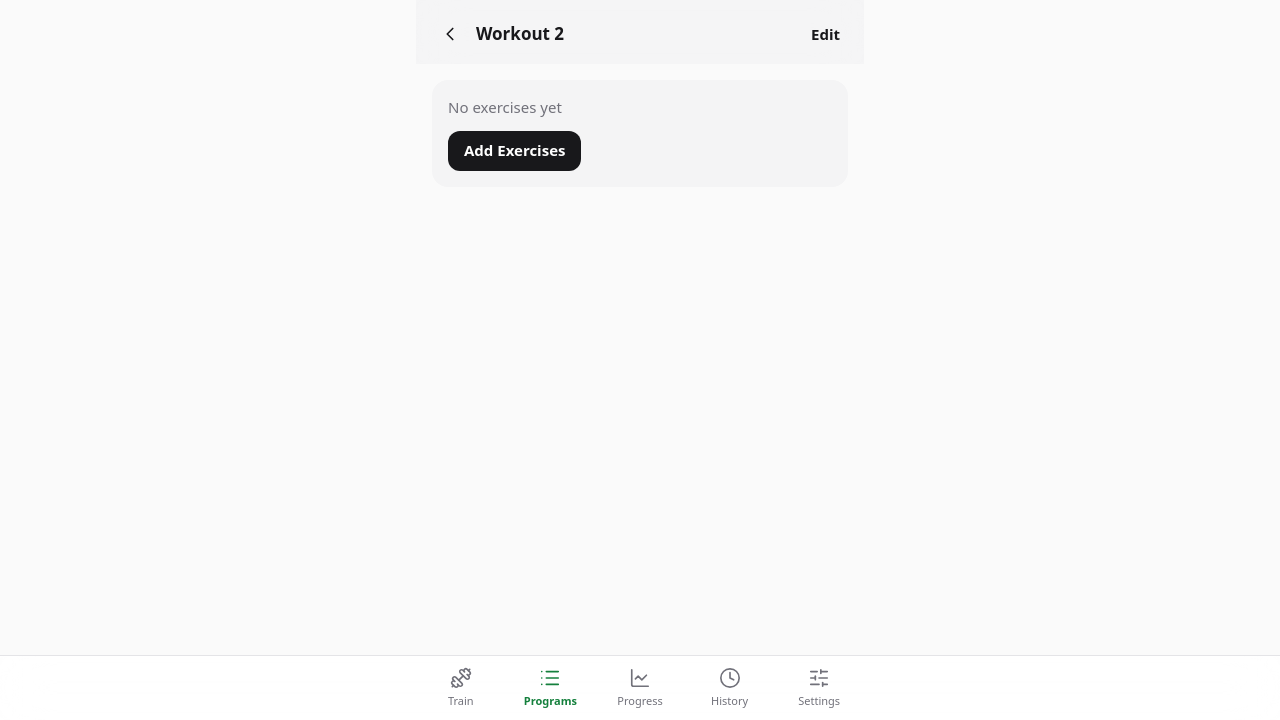
Scenario: Programs › Cancel throws a draft away, asking first when something changed
Click the button "Edit" at (826, 34), box x1=799 y1=12 x2=852 y2=56
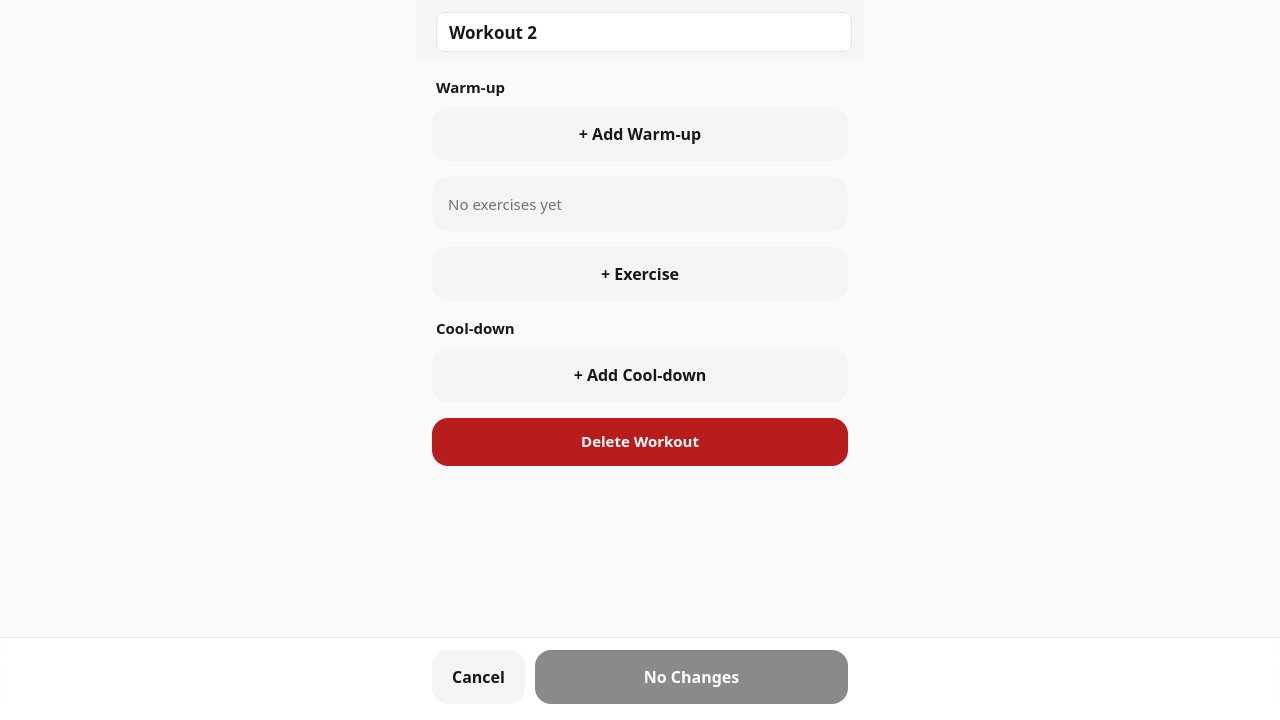
Check: the navigation bar "Main" is gone
Check: the button "No Changes" is disabled, box x1=535 y1=650 x2=848 y2=704
Type "Light" into the field named "Workout name" at (644, 32), box x1=436 y1=12 x2=852 y2=52
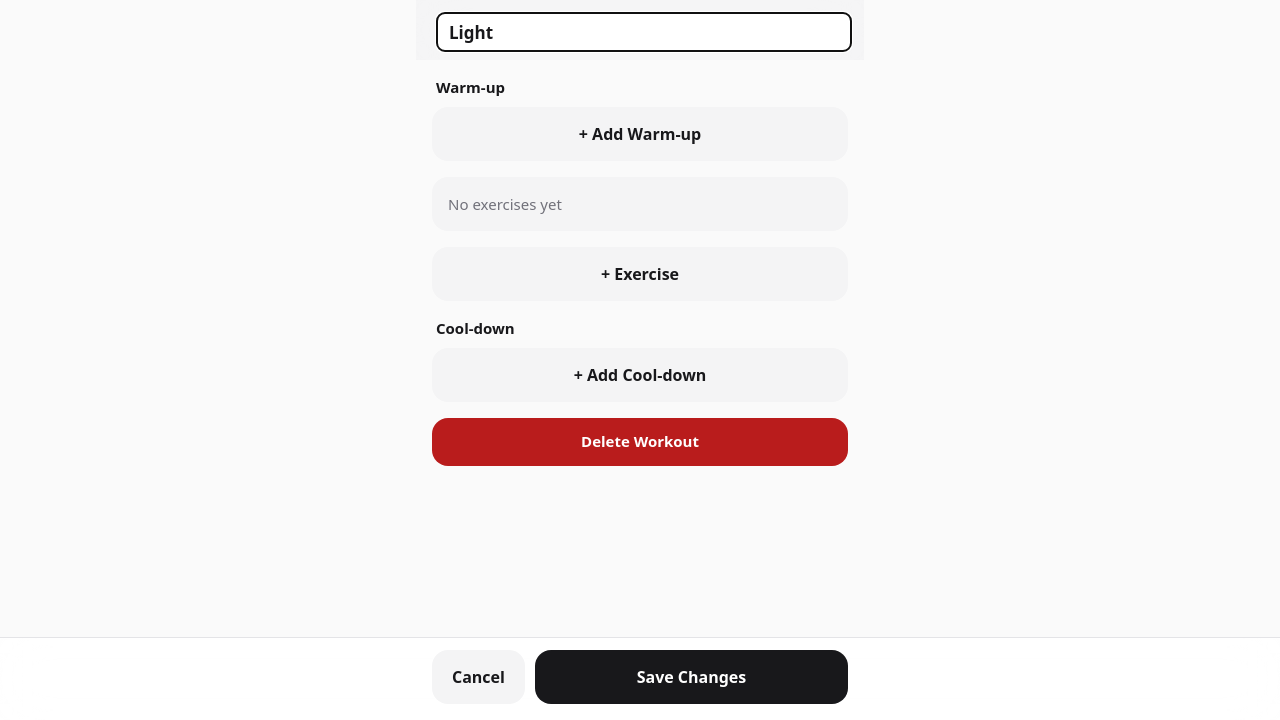
Click the button "Cancel" at (478, 677), box x1=432 y1=650 x2=525 y2=704
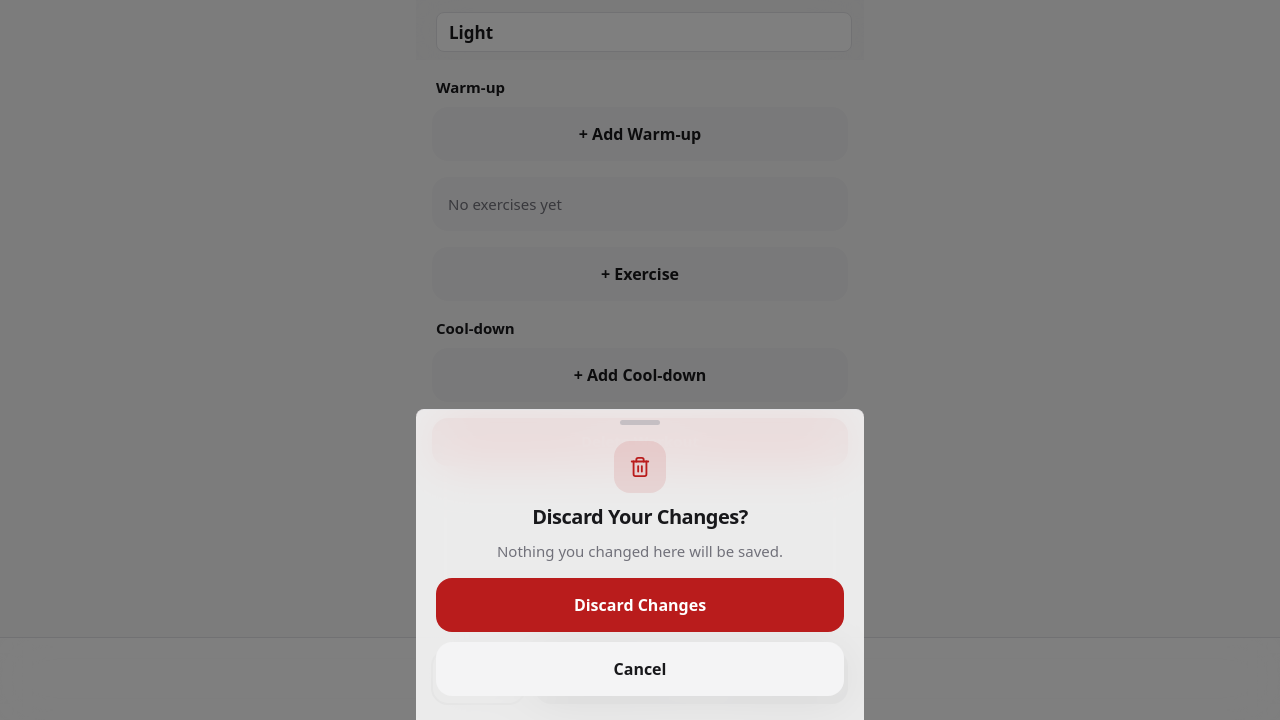
Click the button "Discard Changes" at (640, 605), box x1=436 y1=578 x2=844 y2=632
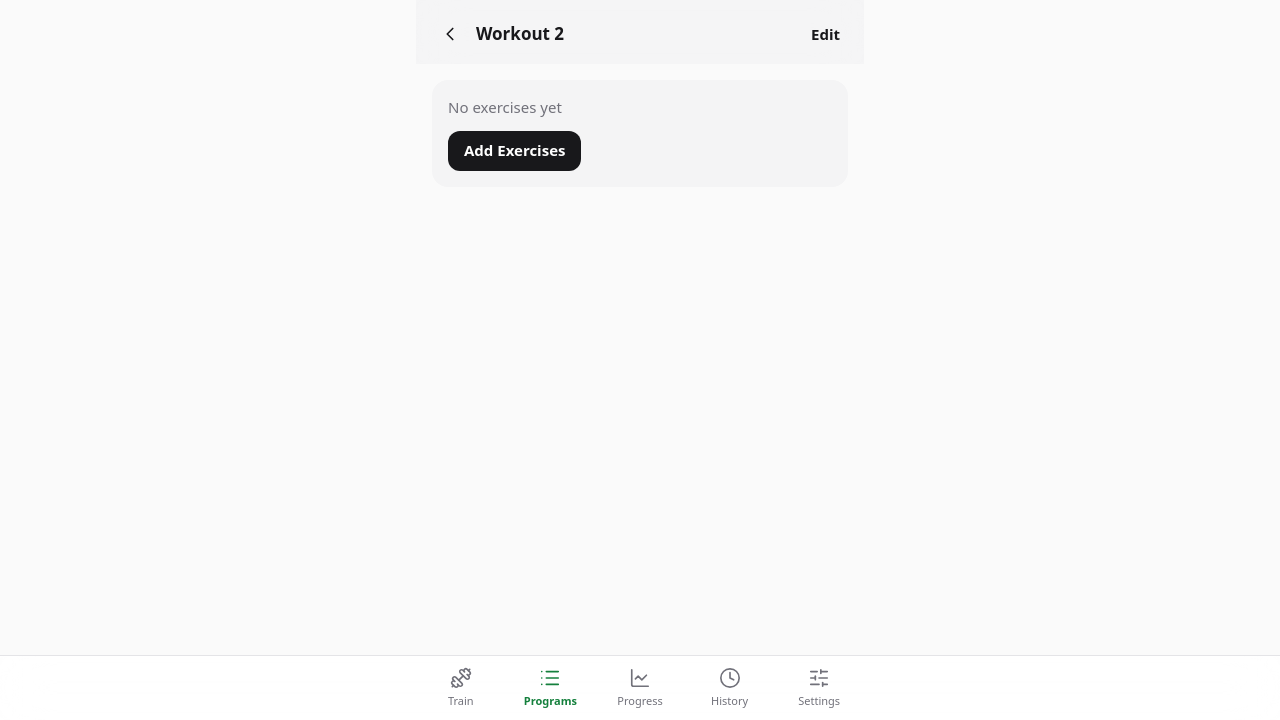
Check: the heading "Workout 2" is shown, box x1=476 y1=22 x2=564 y2=45
Check: the navigation bar named "Main" is shown, box x1=0 y1=655 x2=1279 y2=719
